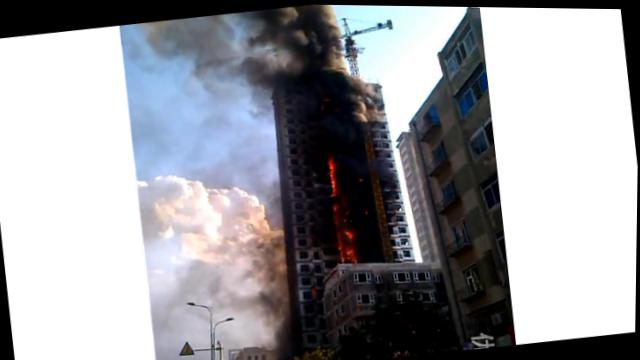fire: (325, 155, 339, 197), (334, 228, 345, 261), (343, 244, 357, 262), (345, 228, 354, 238)
